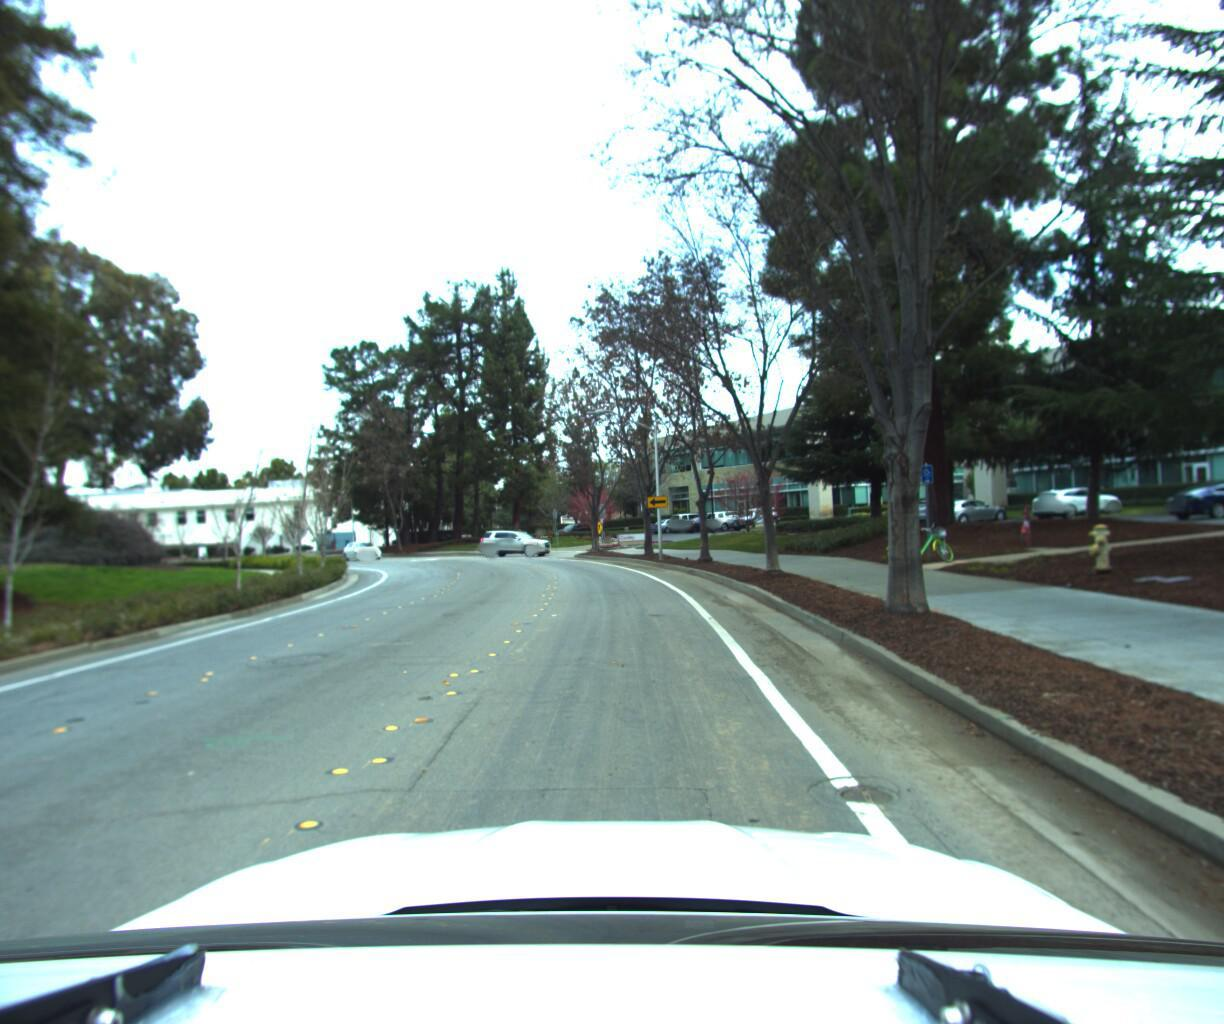bicycle: (881, 513, 968, 565)
car: (471, 522, 554, 555), (336, 537, 384, 558)
